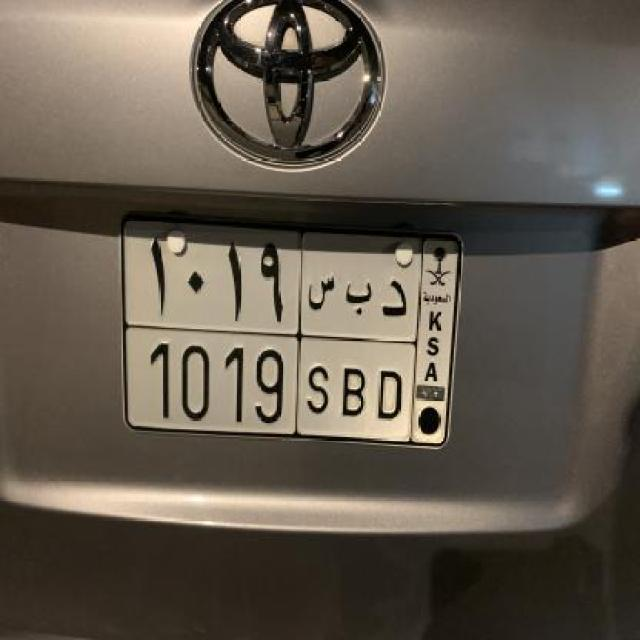license_plate: (117, 212, 466, 453)
